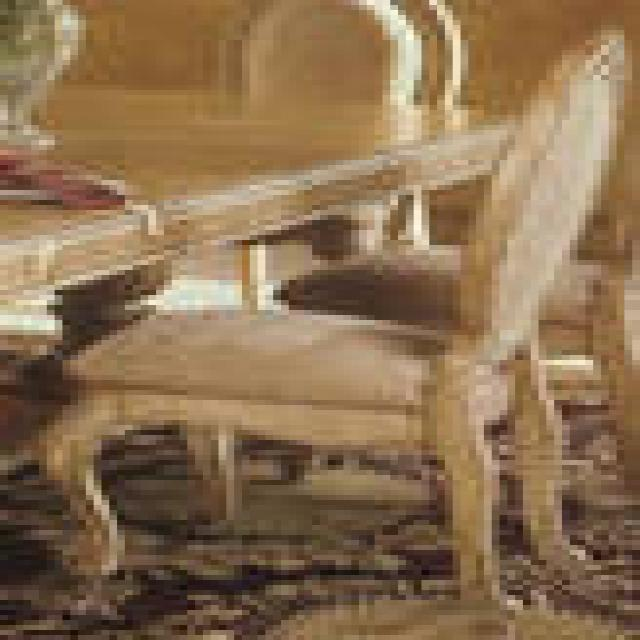chair: (43, 31, 632, 616)
